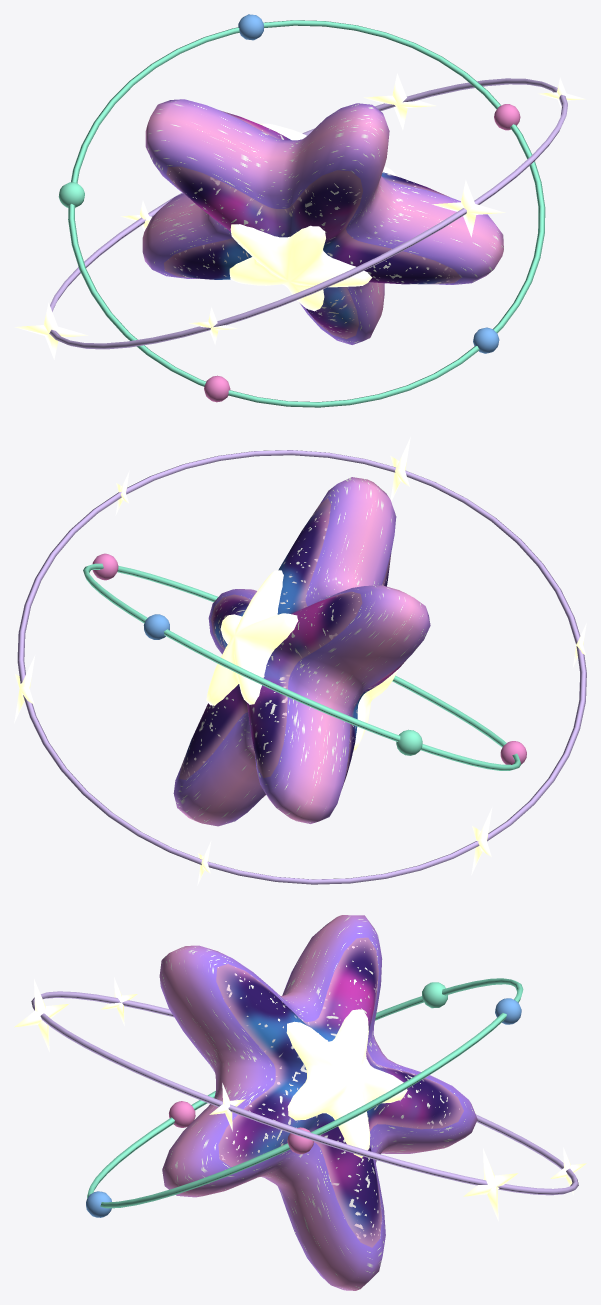
File: StardustMorsel.glb
3 views of the same model, one above another, from view 1: azimuth 30°, elevation 25°; view 2: azimuth 150°, elevation 25°; view 3: azimuth 270°, elevation 25° (orthographic).
Parts seen in each view (by area): view 1: StardustMorsel, StardustMorsel_Glow; view 2: StardustMorsel, StardustMorsel_Glow; view 3: StardustMorsel, StardustMorsel_Glow.
Boxes of the visible parts, left/top/right/bottom form: StardustMorsel: left=49, top=14, right=567, bottom=407; StardustMorsel_Glow: left=14, top=73, right=585, bottom=359; StardustMorsel: left=17, top=450, right=586, bottom=884; StardustMorsel_Glow: left=14, top=437, right=586, bottom=885; StardustMorsel: left=31, top=915, right=578, bottom=1290; StardustMorsel_Glow: left=14, top=977, right=586, bottom=1221.
Size of the model in its own units: 1.53 by 0.9278 by 1.56.
Materials: 2 (1 with a texture image).
